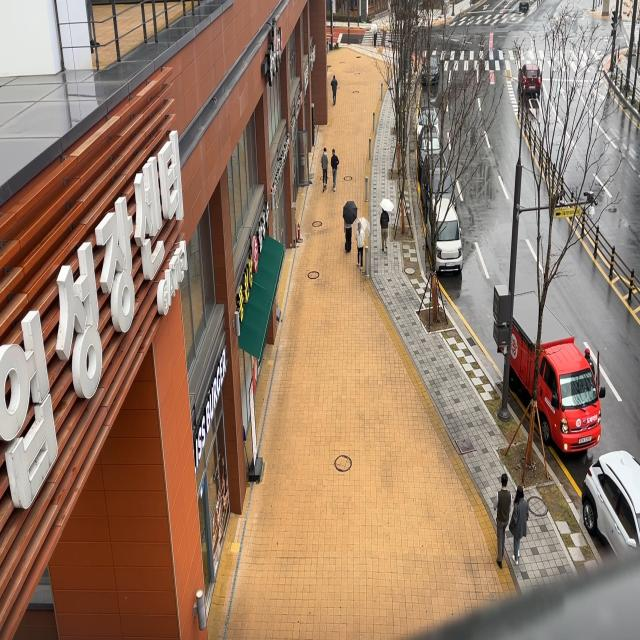Car: (571, 444, 640, 574), (423, 189, 468, 276), (419, 150, 465, 207), (519, 48, 550, 102), (414, 123, 443, 166), (414, 96, 446, 134), (422, 46, 444, 90)
Truck: (500, 278, 606, 464)
